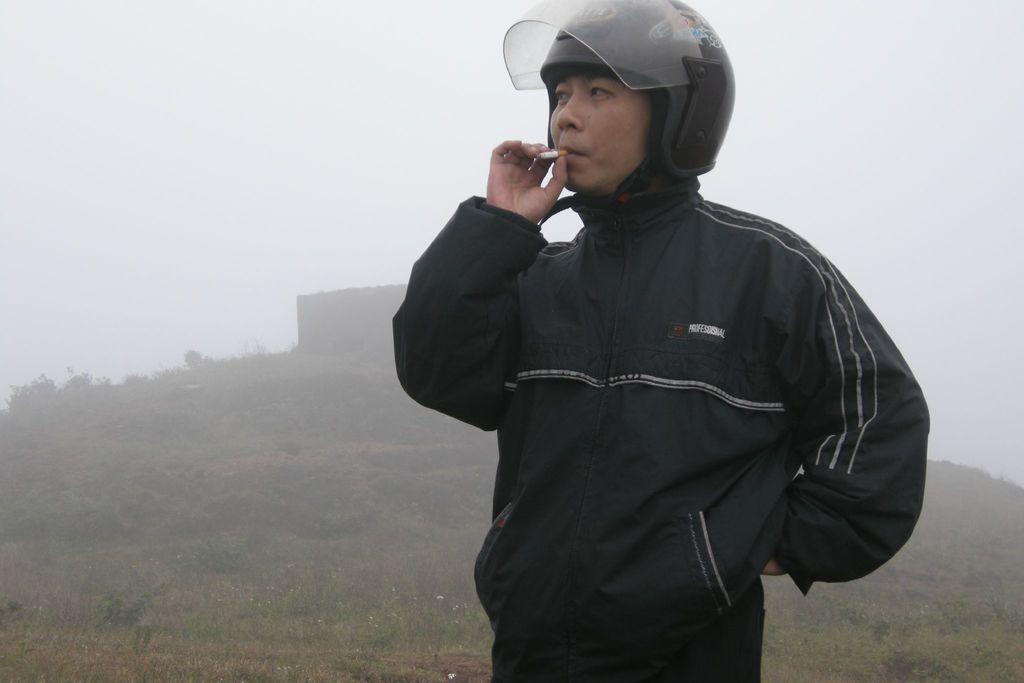helmet: (501, 0, 737, 208)
